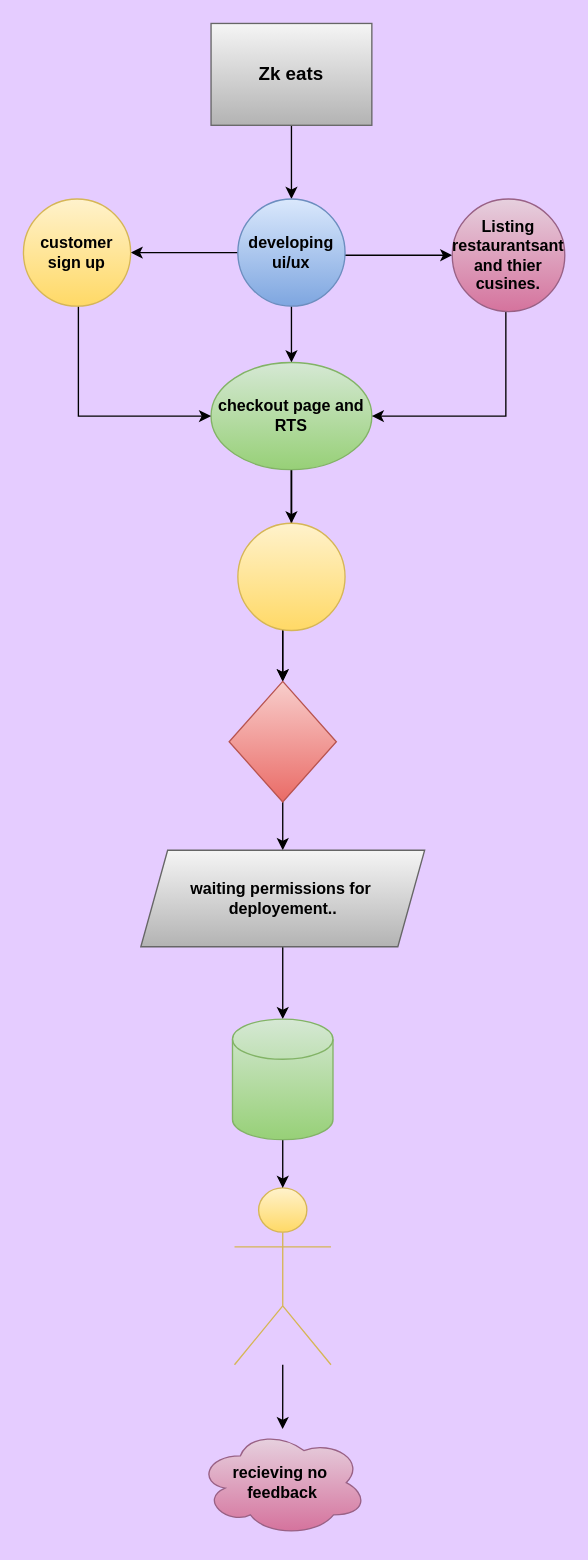
Image size: 588x1560. Some labels were removed from this diagram. Each missing label, with the centre of its shape:
"compiling to APK" belongs at (x=291, y=576).
"Customer using Application" belongs at (x=282, y=1276).
"no bugs found" belongs at (x=282, y=741).
"pushed to app store." belongs at (x=282, y=1079).
